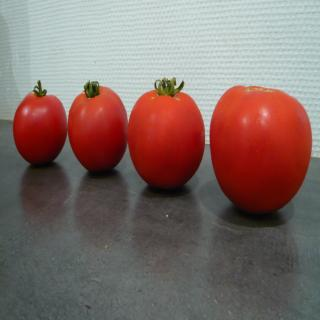tomato: (210, 84, 312, 214), (127, 75, 205, 186), (66, 80, 129, 173), (12, 80, 66, 166)
